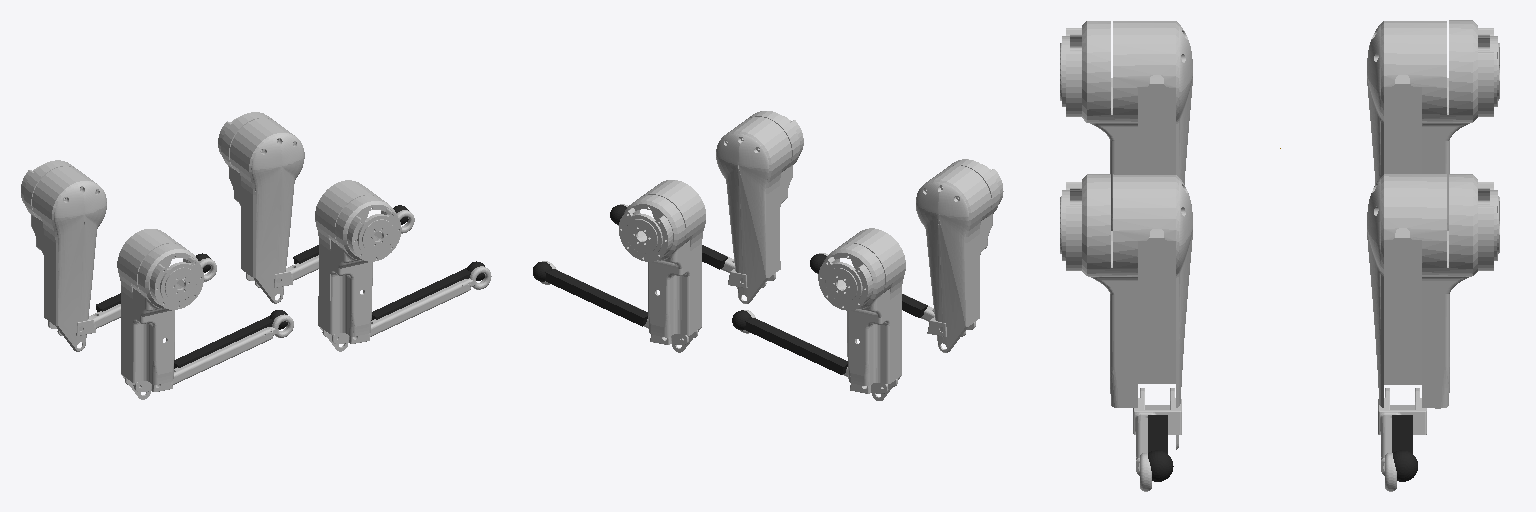
robot.urdf — go1_description:
<?xml version="1.0" ?>
<robot name="go1_description" xmlns:xacro="http://www.ros.org/wiki/xacro">
  <material name="black">
    <color rgba="0.0 0.0 0.0 1.0"/>
  </material>
  <material name="blue">
    <color rgba="0.0 0.0 0.8 1.0"/>
  </material>
  <material name="green">
    <color rgba="0.0 0.8 0.0 1.0"/>
  </material>
  <material name="grey">
    <color rgba="0.2 0.2 0.2 1.0"/>
  </material>
  <material name="silver">
    <color rgba="0.913725490196 0.913725490196 0.847058823529 1.0"/>
  </material>
  <material name="orange">
    <color rgba="1.0 0.423529411765 0.0392156862745 1.0"/>
  </material>
  <material name="brown">
    <color rgba="0.870588235294 0.811764705882 0.764705882353 1.0"/>
  </material>
  <material name="red">
    <color rgba="0.8 0.0 0.0 1.0"/>
  </material>
  <material name="white">
    <color rgba="1.0 1.0 1.0 1.0"/>
  </material>
  <link name="base">
    <visual>
      <origin rpy="0 0 0" xyz="0 0 0"/>
      <geometry>
        <box size="0.001 0.001 0.001"/>
      </geometry>
    </visual>
  </link>
  <joint name="floating_base" type="fixed">
    <origin rpy="0 0 0" xyz="0 0 0"/>
    <parent link="base"/>
    <child link="trunk"/>
  </joint>
  <link name="trunk">
    <visual>
      <origin rpy="0 0 0" xyz="0 0 0"/>
      <geometry>
        <mesh filename="../meshes/trunk.dae" scale="1 1 1"/>
      </geometry>
      <!-- <material name="orange"/> -->
    </visual>
    <collision>
      <origin rpy="0 0 0" xyz="0 0 0"/>
      <geometry>
        <box size="0.3762 0.0935 0.114"/>
      </geometry>
    </collision>
    <inertial>
      <origin rpy="0 0 0" xyz="0.0223 0.002 -0.0005"/>
      <mass value="5.204"/>
      <inertia ixx="0.0168352186" ixy="0.0004636141" ixz="0.0002367952" iyy="0.0656071082" iyz="3.6671e-05" izz="0.0742720659"/>
    </inertial>
  </link>
  <joint name="FR_hip_joint" type="revolute">
    <origin rpy="0 0 0" xyz="0.1881 -0.04675 0"/>
    <parent link="trunk"/>
    <child link="FR_hip"/>
    <axis xyz="1 0 0"/>
    <dynamics damping="0.01" friction="0.2"/>
    <limit effort="23.7" lower="-1.0471975512" upper="1.0471975512" velocity="30.1"/>
  </joint>
  <link name="FR_hip">
    <visual>
      <origin rpy="3.14159265359 0 0" xyz="0 0 0"/>
      <geometry>
        <mesh filename="../meshes/hip.dae" scale="1 1 1"/>
      </geometry>
      <!-- <material name="orange"/> -->
    </visual>
    <collision>
      <origin rpy="1.57079632679 0 0" xyz="0 0 0"/>
      <geometry>
        <cylinder length="0.04" radius="0.046"/>
      </geometry>
    </collision>
    <inertial>
      <origin rpy="0 0 0" xyz="-0.00541 0.00074 6e-06"/>
      <mass value="0.591"/>
      <inertia ixx="0.000374268192" ixy="-3.6844422e-05" ixz="-9.86754e-07" iyy="0.000635923669" iyz="1.172894e-06" izz="0.000457647394"/>
    </inertial>
  </link>
  <joint name="FR_thigh_joint" type="revolute">
    <origin rpy="0 0 0" xyz="0 -0.08 0"/>
    <parent link="FR_hip"/>
    <child link="FR_thigh"/>
    <axis xyz="0 1 0"/>
    <dynamics damping="0.01" friction="0.2"/>
    <limit effort="23.7" lower="-0.663225115758" upper="2.96705972839" velocity="30.1"/>
  </joint>
  <link name="FR_thigh">
    <visual>
      <origin rpy="0 0 0" xyz="0 0 0"/>
      <geometry>
        <mesh filename="../meshes/thigh_mirror.dae" scale="1 1 1"/>
      </geometry>
      <!-- <material name="orange"/> -->
    </visual>
    <collision>
      <origin rpy="0 1.57079632679 0" xyz="0 0 -0.1065"/>
      <geometry>
        <box size="0.213 0.0245 0.034"/>
      </geometry>
    </collision>
    <inertial>
      <origin rpy="0 0 0" xyz="-0.003468 0.018947 -0.032736"/>
      <mass value="0.92"/>
      <inertia ixx="0.005851561134" ixy="-1.783284e-06" ixz="0.000328291374" iyy="0.005596155105" iyz="-2.1430713e-05" izz="0.00107157026"/>
    </inertial>
  </link>
  <joint name="FR_calf_joint" type="revolute">
    <origin rpy="0 0 0" xyz="0 0 -0.213"/>
    <parent link="FR_thigh"/>
    <child link="FR_calf"/>
    <axis xyz="0 1 0"/>
    <dynamics damping="0.01" friction="0.2"/>
    <limit effort="23.7" lower="-2.72271363311" upper="-0.837758040957" velocity="30.1"/>
  </joint>
  <link name="FR_calf">
    <visual>
      <origin rpy="0 0 0" xyz="0 0 0"/>
      <geometry>
        <mesh filename="../meshes/calf.dae" scale="1 1 1"/>
      </geometry>
      <!-- <material name="orange"/> -->
    </visual>
    <collision>
      <origin rpy="0 1.57079632679 0" xyz="0 0 -0.1065"/>
      <geometry>
        <box size="0.213 0.016 0.016"/>
      </geometry>
    </collision>
    <inertial>
      <origin rpy="0 0 0" xyz="0.006286 0.001307 -0.122269"/>
      <mass value="0.131"/>
      <inertia ixx="0.002939186297" ixy="1.440899e-06" ixz="-0.00010535955" iyy="0.00295576935" iyz="-2.4397752e-05" izz="3.0273372e-05"/>
    </inertial>
  </link>
  <joint name="FR_foot_pris" type="prismatic">
    <origin rpy="0 0 0" xyz="0 0 -0.25"/>
    <parent link="FR_calf"/>
    <child link="FR_foot"/>
    <axis xyz="0 0 -1"/>
    <dynamics damping="0" friction="0"/>
    <limit effort="500" velocity="400" lower="0.0" upper="0.02"/>
  </joint>
  <link name="FR_foot">
    <visual>
      <origin rpy="0 1.57079632679 0" xyz="0 0 0.1"/>
      <geometry>
        <box size="0.2 0.0208 0.016"/>
      </geometry>
      <material name="grey"/>
    </visual>
    <visual>
      <origin rpy="0 0 0" xyz="0 0 0"/>
      <geometry>
        <sphere radius="0.0165"/>
      </geometry>
      <material name="grey"/>
    </visual>
    <collision>
      <origin rpy="0 0 0" xyz="0 0 0"/>
      <geometry>
        <sphere radius="0.0165"/>
      </geometry>
    </collision>
    <inertial>
      <mass value="0.06"/>
      <inertia ixx="1.6854e-05" ixy="0.0" ixz="0.0" iyy="1.6854e-05" iyz="0.0" izz="1.6854e-05"/>
    </inertial>
  </link>
  <joint name="FL_hip_joint" type="revolute">
    <origin rpy="0 0 0" xyz="0.1881 0.04675 0"/>
    <parent link="trunk"/>
    <child link="FL_hip"/>
    <axis xyz="1 0 0"/>
    <dynamics damping="0.01" friction="0.2"/>
    <limit effort="23.7" lower="-1.0471975512" upper="1.0471975512" velocity="30.1"/>
  </joint>
  <link name="FL_hip">
    <visual>
      <origin rpy="0 0 0" xyz="0 0 0"/>
      <geometry>
        <mesh filename="../meshes/hip.dae" scale="1 1 1"/>
      </geometry>
      <!-- <material name="orange"/> -->
    </visual>
    <collision>
      <origin rpy="1.57079632679 0 0" xyz="0 0 0"/>
      <geometry>
        <cylinder length="0.04" radius="0.046"/>
      </geometry>
    </collision>
    <inertial>
      <origin rpy="0 0 0" xyz="-0.00541 -0.00074 6e-06"/>
      <mass value="0.591"/>
      <inertia ixx="0.000374268192" ixy="3.6844422e-05" ixz="-9.86754e-07" iyy="0.000635923669" iyz="-1.172894e-06" izz="0.000457647394"/>
    </inertial>
  </link>
  <joint name="FL_thigh_joint" type="revolute">
    <origin rpy="0 0 0" xyz="0 0.08 0"/>
    <parent link="FL_hip"/>
    <child link="FL_thigh"/>
    <axis xyz="0 1 0"/>
    <dynamics damping="0.01" friction="0.2"/>
    <limit effort="23.7" lower="-0.663225115758" upper="2.96705972839" velocity="30.1"/>
  </joint>
  <link name="FL_thigh">
    <visual>
      <origin rpy="0 0 0" xyz="0 0 0"/>
      <geometry>
        <mesh filename="../meshes/thigh.dae" scale="1 1 1"/>
      </geometry>
      <!-- <material name="orange"/> -->
    </visual>
    <collision>
      <origin rpy="0 1.57079632679 0" xyz="0 0 -0.1065"/>
      <geometry>
        <box size="0.213 0.0245 0.034"/>
      </geometry>
    </collision>
    <inertial>
      <origin rpy="0 0 0" xyz="-0.003468 -0.018947 -0.032736"/>
      <mass value="0.92"/>
      <inertia ixx="0.005851561134" ixy="1.783284e-06" ixz="0.000328291374" iyy="0.005596155105" iyz="2.1430713e-05" izz="0.00107157026"/>
    </inertial>
  </link>
  <joint name="FL_calf_joint" type="revolute">
    <origin rpy="0 0 0" xyz="0 0 -0.213"/>
    <parent link="FL_thigh"/>
    <child link="FL_calf"/>
    <axis xyz="0 1 0"/>
    <dynamics damping="0.01" friction="0.2"/>
    <limit effort="23.7" lower="-2.72271363311" upper="-0.837758040957" velocity="30.1"/>
  </joint>
  <link name="FL_calf">
    <visual>
      <origin rpy="0 0 0" xyz="0 0 0"/>
      <geometry>
        <mesh filename="../meshes/calf.dae" scale="1 1 1"/>
      </geometry>
      <!-- <material name="orange"/> -->
    </visual>
    <collision>
      <origin rpy="0 1.57079632679 0" xyz="0 0 -0.1065"/>
      <geometry>
        <box size="0.213 0.016 0.016"/>
      </geometry>
    </collision>
    <inertial>
      <origin rpy="0 0 0" xyz="0.006286 0.001307 -0.122269"/>
      <mass value="0.131"/>
      <inertia ixx="0.002939186297" ixy="1.440899e-06" ixz="-0.00010535955" iyy="0.00295576935" iyz="-2.4397752e-05" izz="3.0273372e-05"/>
    </inertial>
  </link>
  <joint name="FL_foot_pris" type="prismatic">
    <origin rpy="0 0 0" xyz="0 0 -0.25"/>
    <parent link="FL_calf"/>
    <child link="FL_foot"/>
    <axis xyz="0 0 -1"/>
    <dynamics damping="0" friction="0"/>
    <limit effort="500" velocity="400" lower="0.0" upper="0.02"/>
  </joint>
  <link name="FL_foot">
    <visual>
      <origin rpy="0 1.57079632679 0" xyz="0 0 0.1"/>
      <geometry>
        <box size="0.2 0.0208 0.016"/>
      </geometry>
      <material name="grey"/>
    </visual>
    <visual>
      <origin rpy="0 0 0" xyz="0 0 0"/>
      <geometry>
        <sphere radius="0.0165"/>
      </geometry>
      <material name="grey"/>
    </visual>
    <collision>
      <origin rpy="0 0 0" xyz="0 0 0"/>
      <geometry>
        <sphere radius="0.0165"/>
      </geometry>
    </collision>
    <inertial>
      <mass value="0.06"/>
      <inertia ixx="1.6854e-05" ixy="0.0" ixz="0.0" iyy="1.6854e-05" iyz="0.0" izz="1.6854e-05"/>
    </inertial>
  </link>
  <joint name="RR_hip_joint" type="revolute">
    <origin rpy="0 0 0" xyz="-0.1881 -0.04675 0"/>
    <parent link="trunk"/>
    <child link="RR_hip"/>
    <axis xyz="1 0 0"/>
    <dynamics damping="0.01" friction="0.2"/>
    <limit effort="23.7" lower="-1.0471975512" upper="1.0471975512" velocity="30.1"/>
  </joint>
  <link name="RR_hip">
    <visual>
      <origin rpy="3.14159265359 3.14159265359 0" xyz="0 0 0"/>
      <geometry>
        <mesh filename="../meshes/hip.dae" scale="1 1 1"/>
      </geometry>
      <!-- <material name="orange"/> -->
    </visual>
    <collision>
      <origin rpy="1.57079632679 0 0" xyz="0 0 0"/>
      <geometry>
        <cylinder length="0.04" radius="0.046"/>
      </geometry>
    </collision>
    <inertial>
      <origin rpy="0 0 0" xyz="0.00541 0.00074 6e-06"/>
      <mass value="0.591"/>
      <inertia ixx="0.000374268192" ixy="3.6844422e-05" ixz="9.86754e-07" iyy="0.000635923669" iyz="1.172894e-06" izz="0.000457647394"/>
    </inertial>
  </link>
  <joint name="RR_thigh_joint" type="revolute">
    <origin rpy="0 0 0" xyz="0 -0.08 0"/>
    <parent link="RR_hip"/>
    <child link="RR_thigh"/>
    <axis xyz="0 1 0"/>
    <dynamics damping="0.01" friction="0.2"/>
    <limit effort="23.7" lower="-0.663225115758" upper="2.96705972839" velocity="30.1"/>
  </joint>
  <link name="RR_thigh">
    <visual>
      <origin rpy="0 0 0" xyz="0 0 0"/>
      <geometry>
        <mesh filename="../meshes/thigh_mirror.dae" scale="1 1 1"/>
      </geometry>
      <!-- <material name="orange"/> -->
    </visual>
    <collision>
      <origin rpy="0 1.57079632679 0" xyz="0 0 -0.1065"/>
      <geometry>
        <box size="0.213 0.0245 0.034"/>
      </geometry>
    </collision>
    <inertial>
      <origin rpy="0 0 0" xyz="-0.003468 0.018947 -0.032736"/>
      <mass value="0.92"/>
      <inertia ixx="0.005851561134" ixy="-1.783284e-06" ixz="0.000328291374" iyy="0.005596155105" iyz="-2.1430713e-05" izz="0.00107157026"/>
    </inertial>
  </link>
  <joint name="RR_calf_joint" type="revolute">
    <origin rpy="0 0 0" xyz="0 0 -0.213"/>
    <parent link="RR_thigh"/>
    <child link="RR_calf"/>
    <axis xyz="0 1 0"/>
    <dynamics damping="0.01" friction="0.2"/>
    <limit effort="23.7" lower="-2.72271363311" upper="-0.837758040957" velocity="30.1"/>
  </joint>
  <link name="RR_calf">
    <visual>
      <origin rpy="0 0 0" xyz="0 0 0"/>
      <geometry>
        <mesh filename="../meshes/calf.dae" scale="1 1 1"/>
      </geometry>
      <!-- <material name="orange"/> -->
    </visual>
    <collision>
      <origin rpy="0 1.57079632679 0" xyz="0 0 -0.1065"/>
      <geometry>
        <box size="0.213 0.016 0.016"/>
      </geometry>
    </collision>
    <inertial>
      <origin rpy="0 0 0" xyz="0.006286 0.001307 -0.122269"/>
      <mass value="0.131"/>
      <inertia ixx="0.002939186297" ixy="1.440899e-06" ixz="-0.00010535955" iyy="0.00295576935" iyz="-2.4397752e-05" izz="3.0273372e-05"/>
    </inertial>
  </link>
  <joint name="RR_foot_pris" type="prismatic">
    <origin rpy="0 0 0" xyz="0 0 -0.25"/>
    <parent link="RR_calf"/>
    <child link="RR_foot"/>
    <axis xyz="0 0 -1"/>
    <dynamics damping="0" friction="0"/>
    <limit effort="500" velocity="400" lower="0.0" upper="0.05"/>
  </joint>
  <link name="RR_foot">
    <visual>
      <origin rpy="0 1.57079632679 0" xyz="0 0 0.1"/>
      <geometry>
        <box size="0.2 0.0208 0.016"/>
      </geometry>
      <material name="grey"/>
    </visual>
    <visual>
      <origin rpy="0 0 0" xyz="0 0 0"/>
      <geometry>
        <sphere radius="0.0165"/>
      </geometry>
      <material name="grey"/>
    </visual>
    <collision>
      <origin rpy="0 0 0" xyz="0 0 0"/>
      <geometry>
        <sphere radius="0.0165"/>
      </geometry>
    </collision>
    <inertial>
      <mass value="0.06"/>
      <inertia ixx="1.6854e-05" ixy="0.0" ixz="0.0" iyy="1.6854e-05" iyz="0.0" izz="1.6854e-05"/>
    </inertial>
  </link>
  <joint name="RL_hip_joint" type="revolute">
    <origin rpy="0 0 0" xyz="-0.1881 0.04675 0"/>
    <parent link="trunk"/>
    <child link="RL_hip"/>
    <axis xyz="1 0 0"/>
    <dynamics damping="0.01" friction="0.2"/>
    <limit effort="23.7" lower="-1.0471975512" upper="1.0471975512" velocity="30.1"/>
  </joint>
  <link name="RL_hip">
    <visual>
      <origin rpy="0 3.14159265359 0" xyz="0 0 0"/>
      <geometry>
        <mesh filename="../meshes/hip.dae" scale="1 1 1"/>
      </geometry>
      <!-- <material name="orange"/> -->
    </visual>
    <collision>
      <origin rpy="1.57079632679 0 0" xyz="0 0 0"/>
      <geometry>
        <cylinder length="0.04" radius="0.046"/>
      </geometry>
    </collision>
    <inertial>
      <origin rpy="0 0 0" xyz="0.00541 -0.00074 6e-06"/>
      <mass value="0.591"/>
      <inertia ixx="0.000374268192" ixy="-3.6844422e-05" ixz="9.86754e-07" iyy="0.000635923669" iyz="-1.172894e-06" izz="0.000457647394"/>
    </inertial>
  </link>
  <joint name="RL_thigh_joint" type="revolute">
    <origin rpy="0 0 0" xyz="0 0.08 0"/>
    <parent link="RL_hip"/>
    <child link="RL_thigh"/>
    <axis xyz="0 1 0"/>
    <dynamics damping="0.01" friction="0.2"/>
    <limit effort="23.7" lower="-0.663225115758" upper="2.96705972839" velocity="30.1"/>
  </joint>
  <link name="RL_thigh">
    <visual>
      <origin rpy="0 0 0" xyz="0 0 0"/>
      <geometry>
        <mesh filename="../meshes/thigh.dae" scale="1 1 1"/>
      </geometry>
      <!-- <material name="orange"/> -->
    </visual>
    <collision>
      <origin rpy="0 1.57079632679 0" xyz="0 0 -0.1065"/>
      <geometry>
        <box size="0.213 0.0245 0.034"/>
      </geometry>
    </collision>
    <inertial>
      <origin rpy="0 0 0" xyz="-0.003468 -0.018947 -0.032736"/>
      <mass value="0.92"/>
      <inertia ixx="0.005851561134" ixy="1.783284e-06" ixz="0.000328291374" iyy="0.005596155105" iyz="2.1430713e-05" izz="0.00107157026"/>
    </inertial>
  </link>
  <joint name="RL_calf_joint" type="revolute">
    <origin rpy="0 0 0" xyz="0 0 -0.213"/>
    <parent link="RL_thigh"/>
    <child link="RL_calf"/>
    <axis xyz="0 1 0"/>
    <dynamics damping="0.01" friction="0.2"/>
    <limit effort="23.7" lower="-2.72271363311" upper="-0.837758040957" velocity="30.1"/>
  </joint>
  <link name="RL_calf">
    <visual>
      <origin rpy="0 0 0" xyz="0 0 0"/>
      <geometry>
        <mesh filename="../meshes/calf.dae" scale="1 1 1"/>
      </geometry>
      <!-- <material name="orange"/> -->
    </visual>
    <collision>
      <origin rpy="0 1.57079632679 0" xyz="0 0 -0.1065"/>
      <geometry>
        <box size="0.213 0.016 0.016"/>
      </geometry>
    </collision>
    <inertial>
      <origin rpy="0 0 0" xyz="0.006286 0.001307 -0.122269"/>
      <mass value="0.131"/>
      <inertia ixx="0.002939186297" ixy="1.440899e-06" ixz="-0.00010535955" iyy="0.00295576935" iyz="-2.4397752e-05" izz="3.0273372e-05"/>
    </inertial>
  </link>
  <joint name="RL_foot_pris" type="prismatic">
    <origin rpy="0 0 0" xyz="0 0 -0.25"/>
    <parent link="RL_calf"/>
    <child link="RL_foot"/>
    <axis xyz="0 0 -1"/>
    <dynamics damping="0" friction="0"/>
    <limit effort="500" velocity="400" lower="0.0" upper="0.05"/>
  </joint>
  <link name="RL_foot">
    <visual>
      <origin rpy="0 1.57079632679 0" xyz="0 0 0.1"/>
      <geometry>
        <box size="0.2 0.0208 0.016"/>
      </geometry>
      <material name="grey"/>
    </visual>
    <visual>
      <origin rpy="0 0 0" xyz="0 0 0"/>
      <geometry>
        <sphere radius="0.0165"/>
      </geometry>
      <material name="grey"/>
    </visual>
    <collision>
      <origin rpy="0 0 0" xyz="0 0 0"/>
      <geometry>
        <sphere radius="0.0165"/>
      </geometry>
    </collision>
    <inertial>
      <mass value="0.06"/>
      <inertia ixx="1.6854e-05" ixy="0.0" ixz="0.0" iyy="1.6854e-05" iyz="0.0" izz="1.6854e-05"/>
    </inertial>
  </link>
</robot>

--- Render facts (derived) ---
Views: 3 orthographic renders of the robot side by side, from view 1: azimuth 30°, elevation 25°; view 2: azimuth 150°, elevation 25°; view 3: azimuth 270°, elevation 25°.
Robot: go1_description — 18 links, 17 joints (12 revolute, 4 prismatic, 1 fixed); root link base; default pose: all joints at 0 but 4 set to mid-range because 0 is outside their limits (FR_calf_joint = -1.78, FL_calf_joint = -1.78, RR_calf_joint = -1.78, RL_calf_joint = -1.78).
Visible links, largest first — view 1: FL_thigh, RL_thigh, RR_thigh, FR_thigh, FR_calf, RR_calf, RR_foot, FR_foot, FL_calf, RL_calf; view 2: RR_thigh, FR_thigh, RL_thigh, FL_thigh, RL_foot, FL_foot, FR_foot, RR_foot; view 3: FL_thigh, FR_thigh, RR_thigh, RL_thigh, FR_calf, FL_calf, FL_foot, FR_foot.
Link boxes in pixels (<box>): FL_thigh: <box>218,112,304,303</box>; RL_thigh: <box>21,160,106,351</box>; RR_thigh: <box>117,229,203,399</box>; FR_thigh: <box>315,180,401,351</box>; FR_calf: <box>322,266,491,343</box>; RR_calf: <box>125,314,293,391</box>; RR_foot: <box>174,310,287,368</box>; FR_foot: <box>371,261,484,320</box>; FL_calf: <box>246,210,414,287</box>; RL_calf: <box>48,258,216,335</box>; RR_thigh: <box>916,159,1003,352</box>; FR_thigh: <box>716,111,803,303</box>; RL_thigh: <box>818,228,905,400</box>; FL_thigh: <box>619,180,705,352</box>; RL_foot: <box>732,310,847,374</box>; FL_foot: <box>533,262,647,326</box>; FR_foot: <box>610,205,727,269</box>; RR_foot: <box>810,254,927,317</box>; FL_thigh: <box>1367,174,1499,408</box>; FR_thigh: <box>1060,174,1192,449</box>; RR_thigh: <box>1060,21,1192,230</box>; RL_thigh: <box>1367,20,1499,230</box>; FR_calf: <box>1133,388,1181,491</box>; FL_calf: <box>1378,388,1426,491</box>; FL_foot: <box>1392,415,1417,481</box>; FR_foot: <box>1148,415,1173,481</box>.
Size in the robot's own frame: 0.6938 by 0.4547 by 0.3099 metres.
Meshes: 5 distinct files referenced, 8 mesh visuals loaded (3 Collada DAE); not drawn: 5 (reference not matched to a file when rendering).
